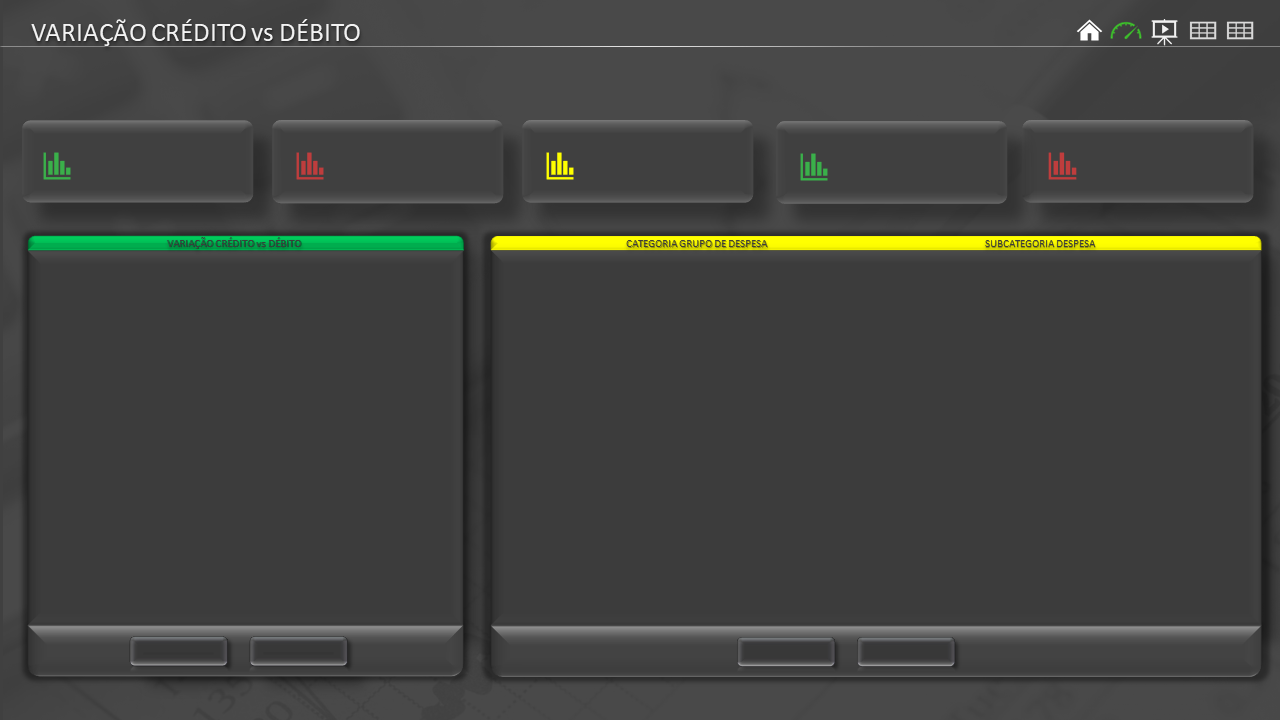

What the dashboard file says about the page in this screenshot:
{"tool":"powerbi","page":{"name":"Painel Centro de Custo","canvas":[1280,720],"ordinal":2},"visuals":[{"type":"stackedAreaChart","fields":{"Y":["_MedidasDebito.Total Debito"],"Category":["dimCentroCusto.Centro de Custo"]},"box":[48,144,1168,464],"z":0},{"type":"actionButton","title":"Botão Home","box":[1072,16,32,32],"z":1000},{"type":"actionButton","title":"Botão Detalh Credito","box":[1185,16,32,32],"z":2000},{"type":"actionButton","title":"Botão Detalh Credito","box":[1110,16,38,32],"z":3000},{"type":"actionButton","box":[1060,72,160,32],"z":4000},{"type":"actionButton","title":"Botão Detalh Debito","box":[1224,16,32,32],"z":5000}]}

Visuals, with their boxes in screenshot pixels (x1, y1, x2, y2), scaled from the page's 1280x720 canvas onto the 1280x720 screenshot:
stackedAreaChart - _MedidasDebito.Total Debito x dimCentroCusto.Centro de Custo: select_region(48, 144, 1216, 608)
"Botão Home" actionButton: select_region(1072, 16, 1104, 48)
"Botão Detalh Credito" actionButton: select_region(1185, 16, 1217, 48)
"Botão Detalh Credito" actionButton: select_region(1110, 16, 1148, 48)
actionButton: select_region(1060, 72, 1220, 104)
"Botão Detalh Debito" actionButton: select_region(1224, 16, 1256, 48)
